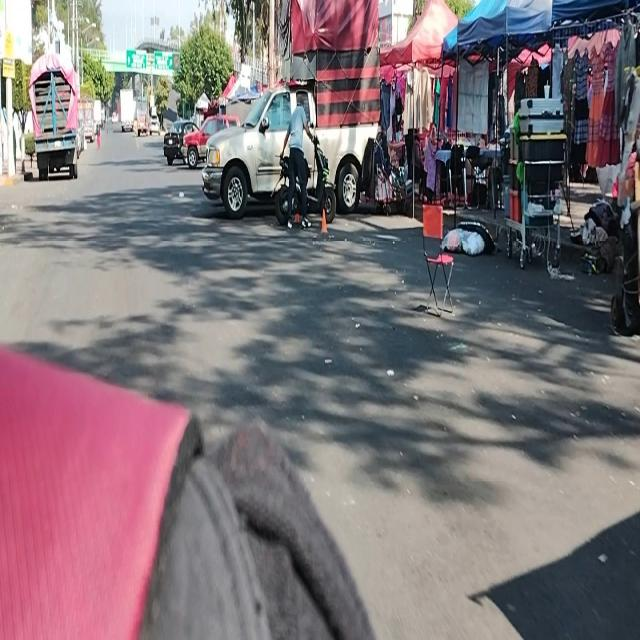adult: (280, 96, 314, 228)
